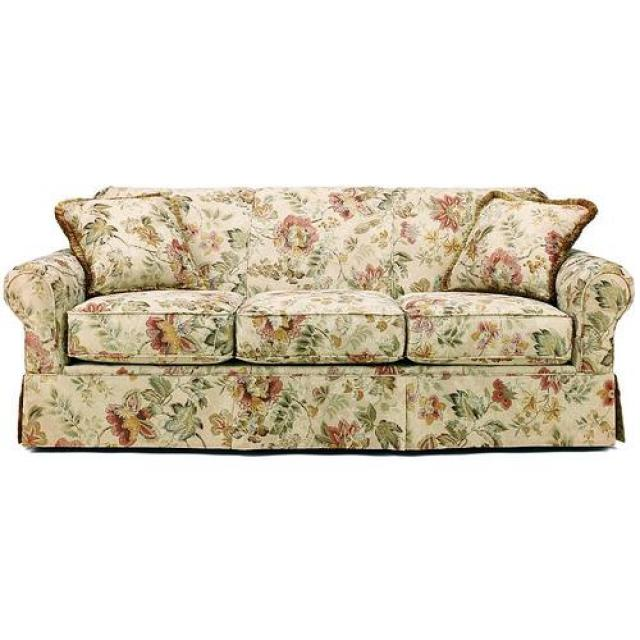sofa: (2, 182, 635, 456)
